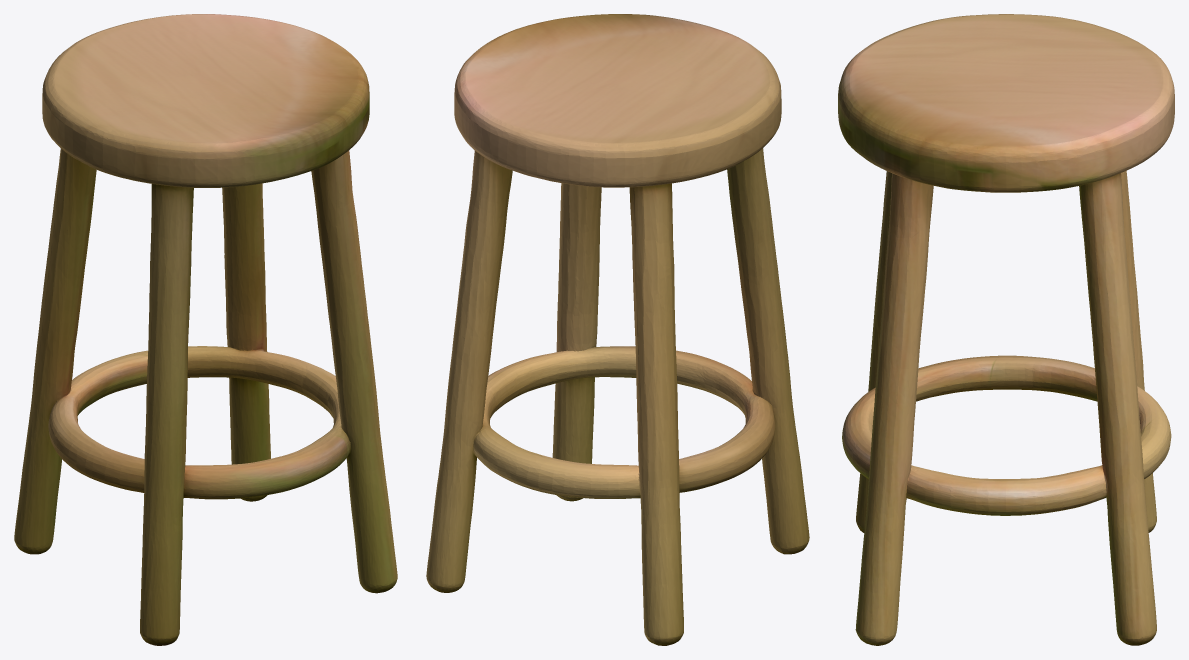
File: bar_stool.glb
The picture shows the model from 3 angles, left to right: view 1: azimuth 30°, elevation 25°; view 2: azimuth 150°, elevation 25°; view 3: azimuth 270°, elevation 25°; orthographic projection. The views are drawn at different scales.
Visible parts, largest first — view 1: geometry_0; view 2: geometry_0; view 3: geometry_0.
Part boxes in pixels (x1=…): geometry_0: x1=14, y1=14, x2=397, y2=645; geometry_0: x1=426, y1=14, x2=809, y2=645; geometry_0: x1=838, y1=14, x2=1174, y2=645.
Bounding box in the file's own units: 0.6015 × 1 × 0.6015.
Materials: 1 (1 with a texture image).
